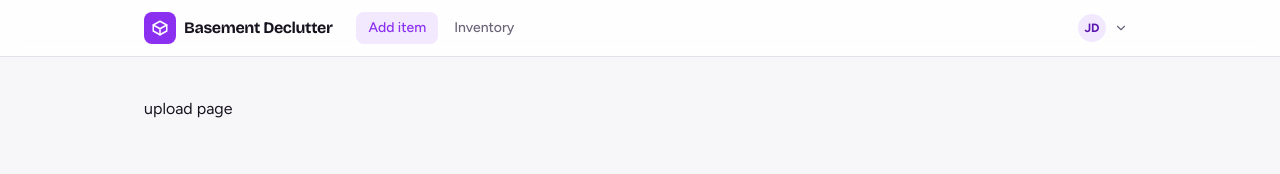
AppLayout › closes the menu on route change
This screenshot has width=1280, height=174.
Expected: the text "JD" is shown, [1078,14,1106,42]
Click the button with aria-label "Account menu". click: (1105, 28)
box: [1074,10,1136,46]
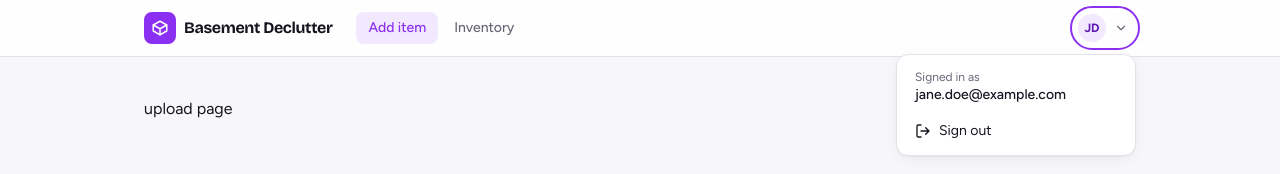
Now the menu is shown, box [896,54,1136,156]
Click the link "Inventory". click: (484, 28)
box: [454,19,514,36]
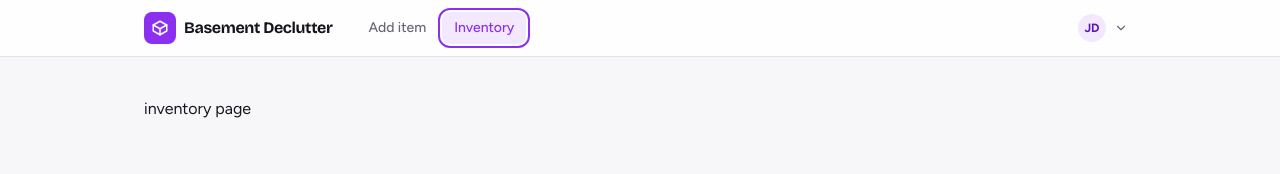
Now the text "inventory page" is shown, box [144,99,251,118]
Now the menu is gone
